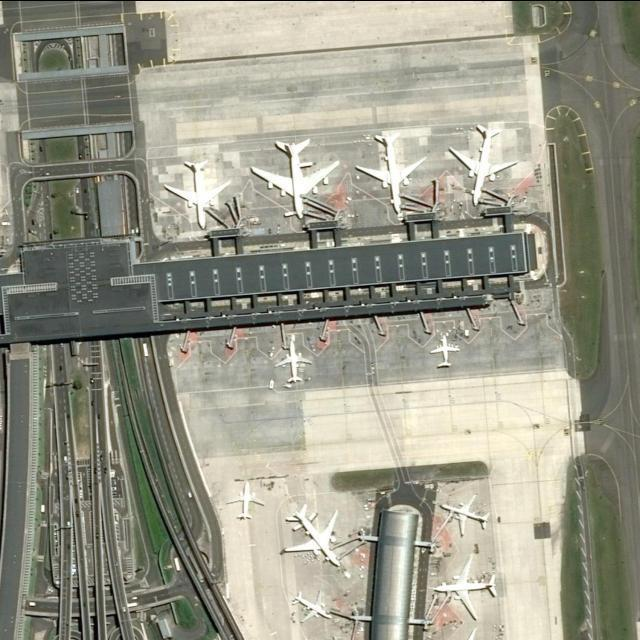Aircraft: (248, 132, 338, 223), (448, 124, 519, 212), (359, 125, 425, 217), (165, 155, 231, 231), (432, 556, 498, 620), (281, 505, 344, 571), (438, 494, 491, 542), (274, 335, 314, 385), (286, 589, 331, 625), (227, 479, 263, 524), (428, 332, 460, 370)
